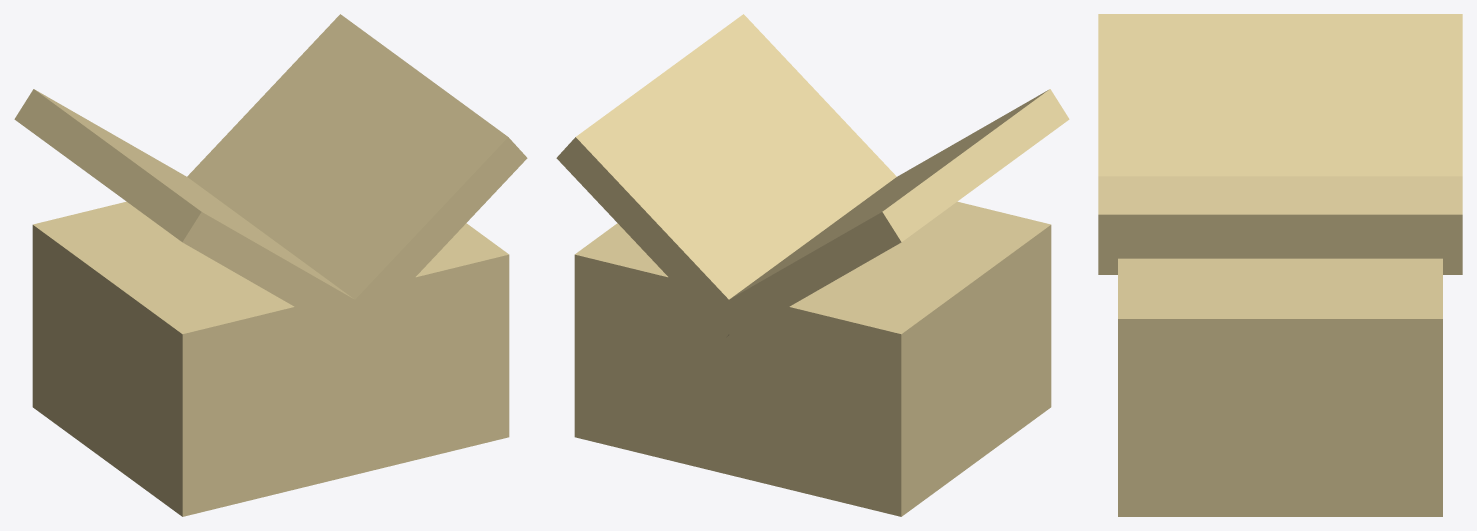
The picture shows the model from 3 angles, left to right: view 1: azimuth 30°, elevation 25°; view 2: azimuth 150°, elevation 25°; view 3: azimuth 270°, elevation 25°; orthographic projection. The views are drawn at different scales.
Parts seen in each view (by area): view 1: straw-walls, roof-right, roof-left; view 2: straw-walls, roof-right, roof-left; view 3: straw-walls, roof-left, roof-right.
Part boxes in pixels (x1,y1,x2,y2): straw-walls: [32, 201, 509, 516]; roof-right: [187, 14, 527, 337]; roof-left: [14, 89, 370, 339]; straw-walls: [574, 201, 1051, 516]; roof-right: [556, 14, 896, 337]; roof-left: [713, 89, 1069, 339]; straw-walls: [1118, 258, 1442, 516]; roof-left: [1098, 14, 1462, 176]; roof-right: [1098, 176, 1462, 274].
Size of the model in its own units: 7.71 by 6.6 by 6.5.
